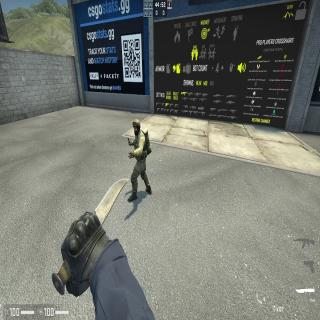CT-Body: (129, 119, 149, 202)
CT-Head: (132, 119, 141, 136)
